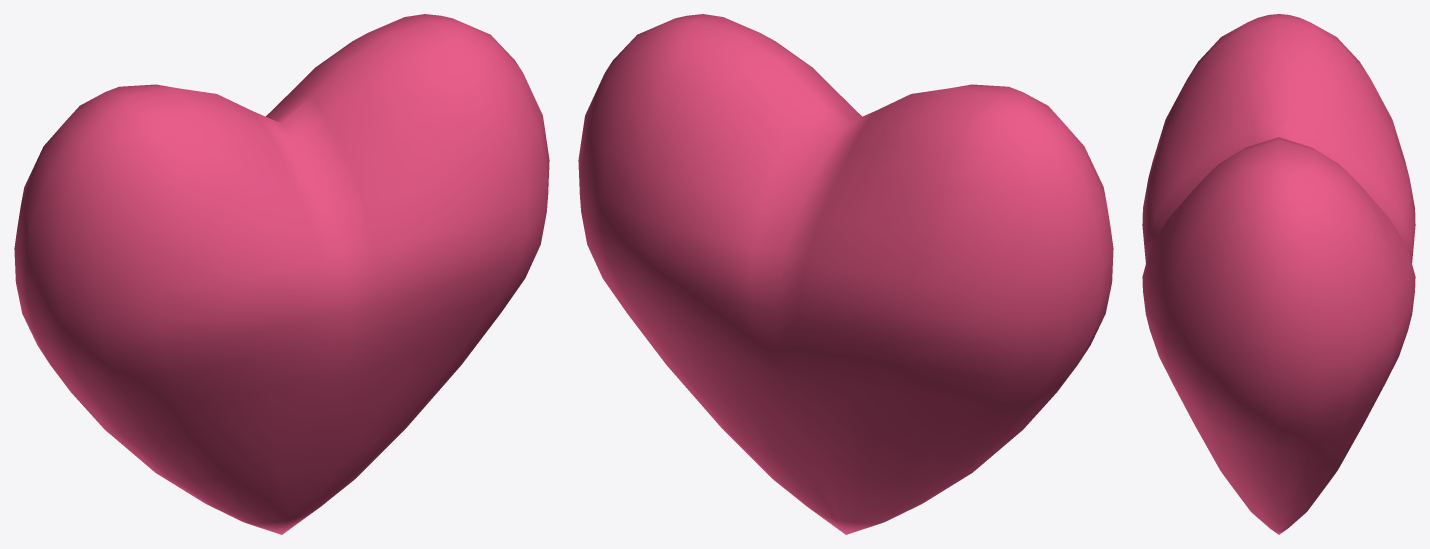
The model's file is heart.fbx.fbx.
3 views of the same model, side by side, from view 1: azimuth 30°, elevation 25°; view 2: azimuth 150°, elevation 25°; view 3: azimuth 270°, elevation 25° (orthographic). The views are drawn at different scales.
Visible parts, largest first — view 1: Plane; view 2: Plane; view 3: Plane.
Boxes of the visible parts, <box> form: Plane: <box>14,14,549,534</box>; Plane: <box>578,14,1113,534</box>; Plane: <box>1142,14,1415,534</box>.
Size of the model in its own units: 33.39 by 29.63 by 16.45.
